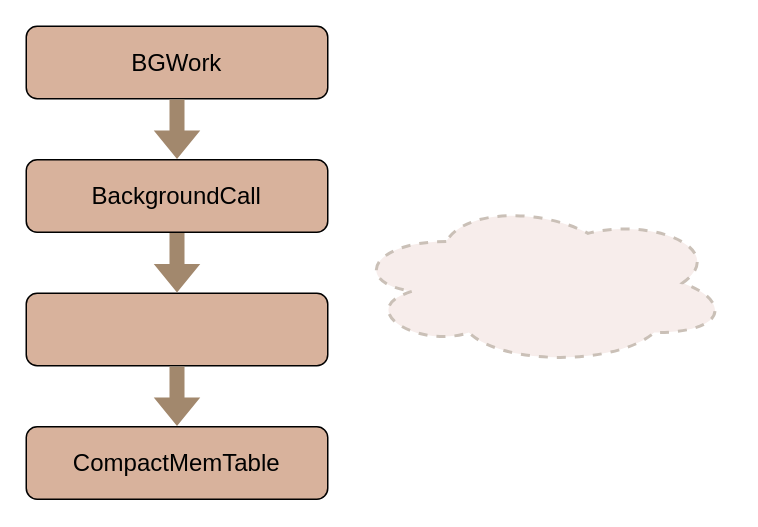
This 758x527 diagram has some shape labels left out. The shapes that lost their labels are listed below. From the top down, each one's centre as x and y in pixels, then its label:
At point 540,282: "BackgroundCompaction 也是 MajorCompaction 和 SeekCompaction 的入口".
At point 176,329: "BackgroundCompaction".
